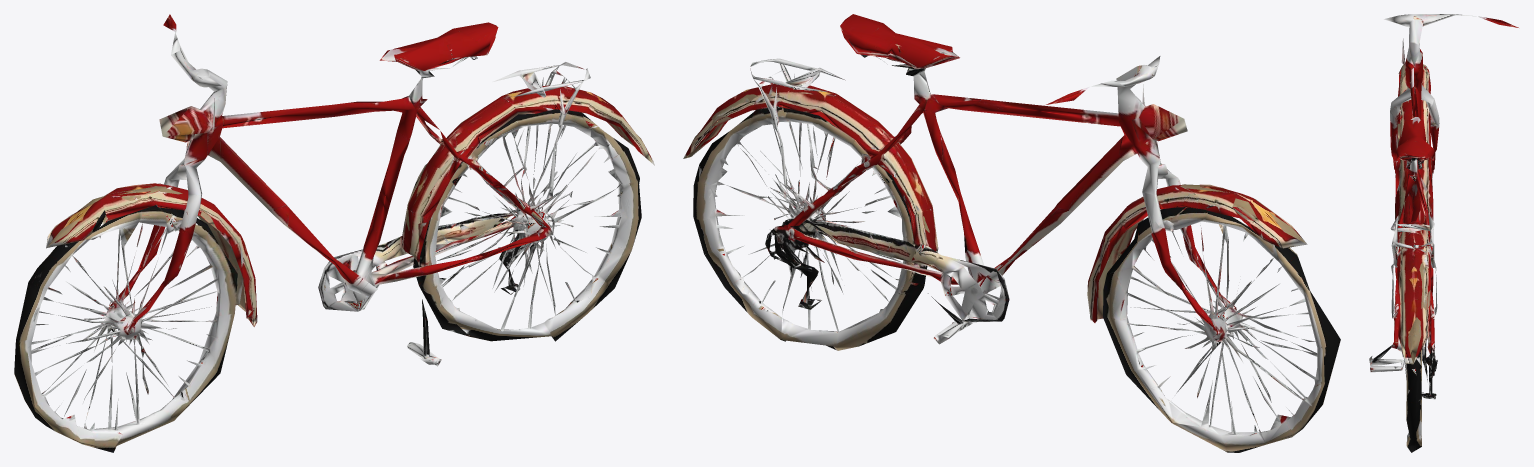
File: bicycle-red.glb
3 renders of one model, left to right at view 1: azimuth 30°, elevation 25°; view 2: azimuth 150°, elevation 25°; view 3: azimuth 270°, elevation 25°, orthographic. The views are drawn at different scales.
Size of the model in its own units: 1.89 by 1.03 by 0.4643.
1 material, 1 textured.
